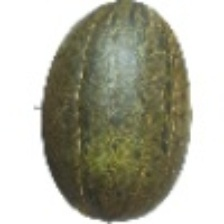honeydew: (9, 27, 198, 218)
